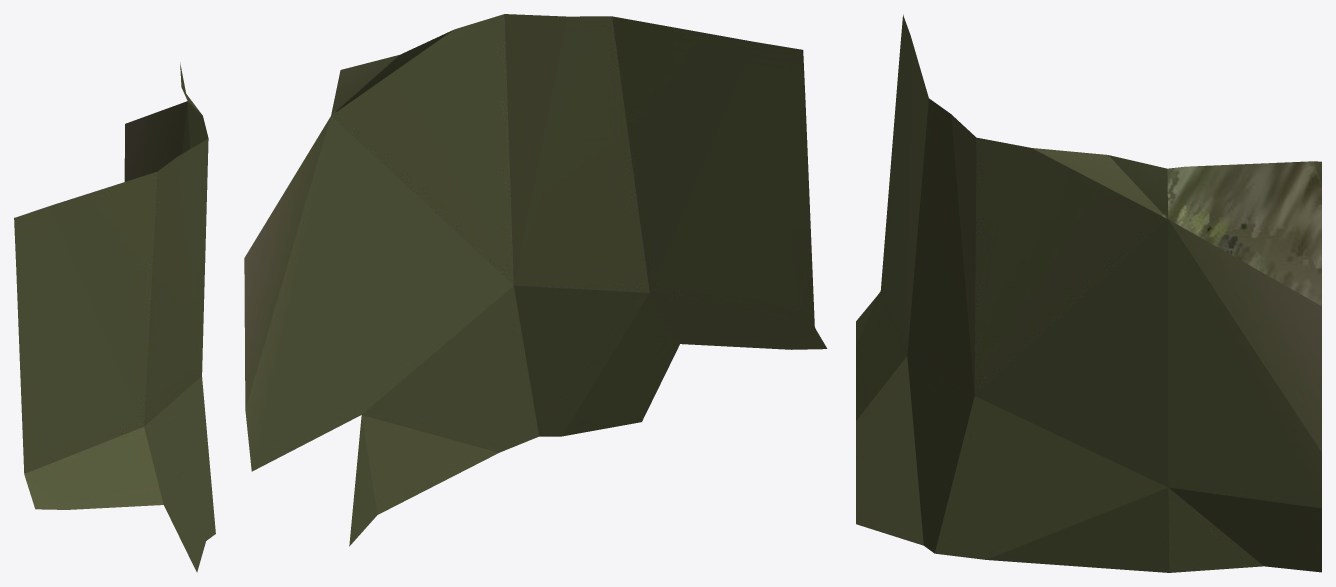
3 renders of one model, left to right at view 1: azimuth 30°, elevation 25°; view 2: azimuth 150°, elevation 25°; view 3: azimuth 270°, elevation 25°, orthographic. The views are drawn at different scales.
Size of the model in its own units: 2.43 by 2.95 by 2.95.
3 materials, 3 textured.
